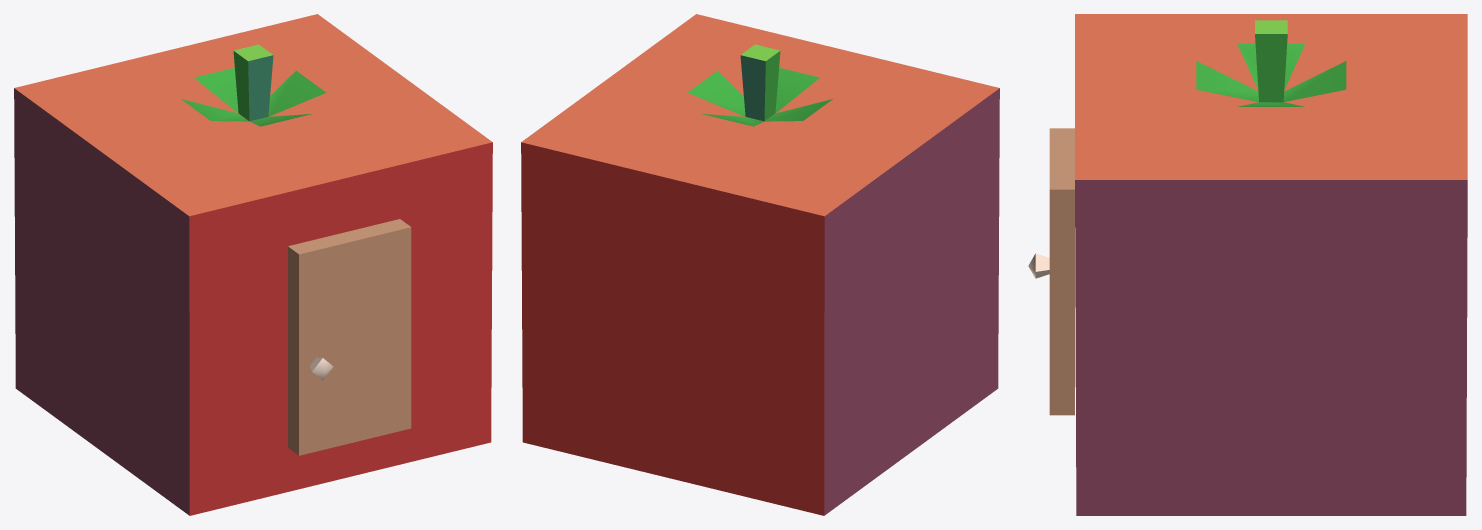
Rendered from houseTomato.fbx.
The picture shows the model from 3 angles, left to right: view 1: azimuth 30°, elevation 25°; view 2: azimuth 150°, elevation 25°; view 3: azimuth 270°, elevation 25°; orthographic projection. The views are drawn at different scales.
Visible parts, largest first — view 1: body, door, leaf, stalk; view 2: body, leaf, stalk; view 3: body, door, leaf, stalk.
Boxes of the visible parts, x1,y1,x2,y2 form: body: [14, 14, 492, 515]; door: [288, 219, 411, 455]; leaf: [181, 67, 326, 126]; stalk: [233, 44, 273, 121]; body: [521, 14, 999, 515]; leaf: [687, 67, 832, 126]; stalk: [740, 44, 780, 121]; body: [1075, 14, 1467, 515]; door: [1049, 128, 1074, 415]; leaf: [1196, 43, 1346, 106]; stalk: [1255, 20, 1287, 102].
Size of the model in its own units: 106 by 121 by 118.
Materials: 1 (1 with a texture image).
